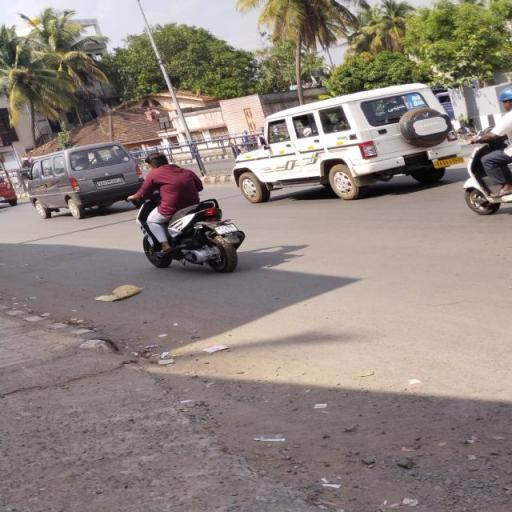bike: (124, 152, 258, 274)
numberplate: (213, 218, 238, 236)
withouthelmet: (146, 153, 168, 168)
